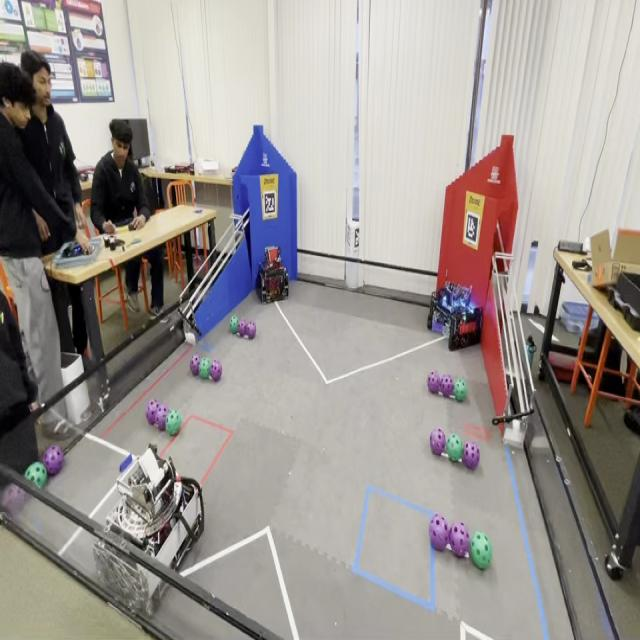artifact_green: (470, 531, 492, 570), (25, 462, 47, 488), (446, 434, 463, 462), (166, 409, 181, 437), (454, 379, 467, 401), (199, 358, 211, 379), (229, 315, 239, 334)
artifact_purple: (2, 484, 27, 515), (449, 522, 470, 558), (430, 515, 449, 551), (43, 445, 64, 476), (462, 441, 479, 470), (430, 428, 445, 455), (156, 405, 169, 431), (146, 400, 159, 425), (440, 375, 453, 397), (210, 361, 222, 382), (428, 371, 439, 393), (190, 355, 200, 376), (246, 322, 256, 340), (238, 319, 247, 336)
